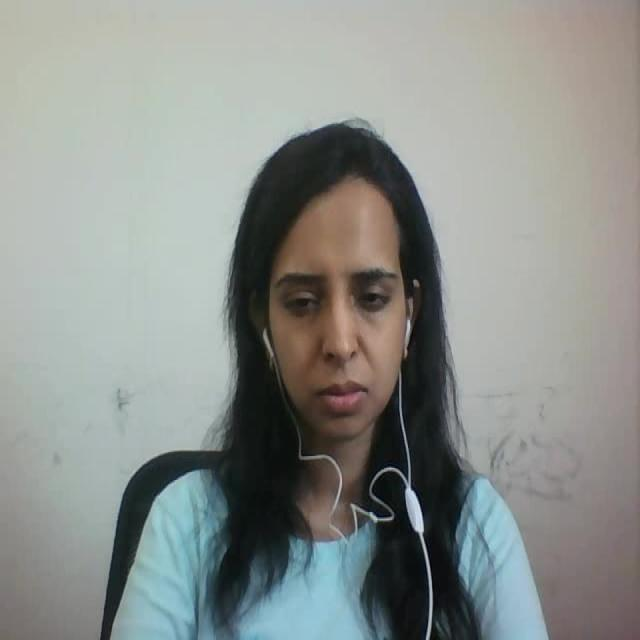Bored: (223, 106, 482, 477)
